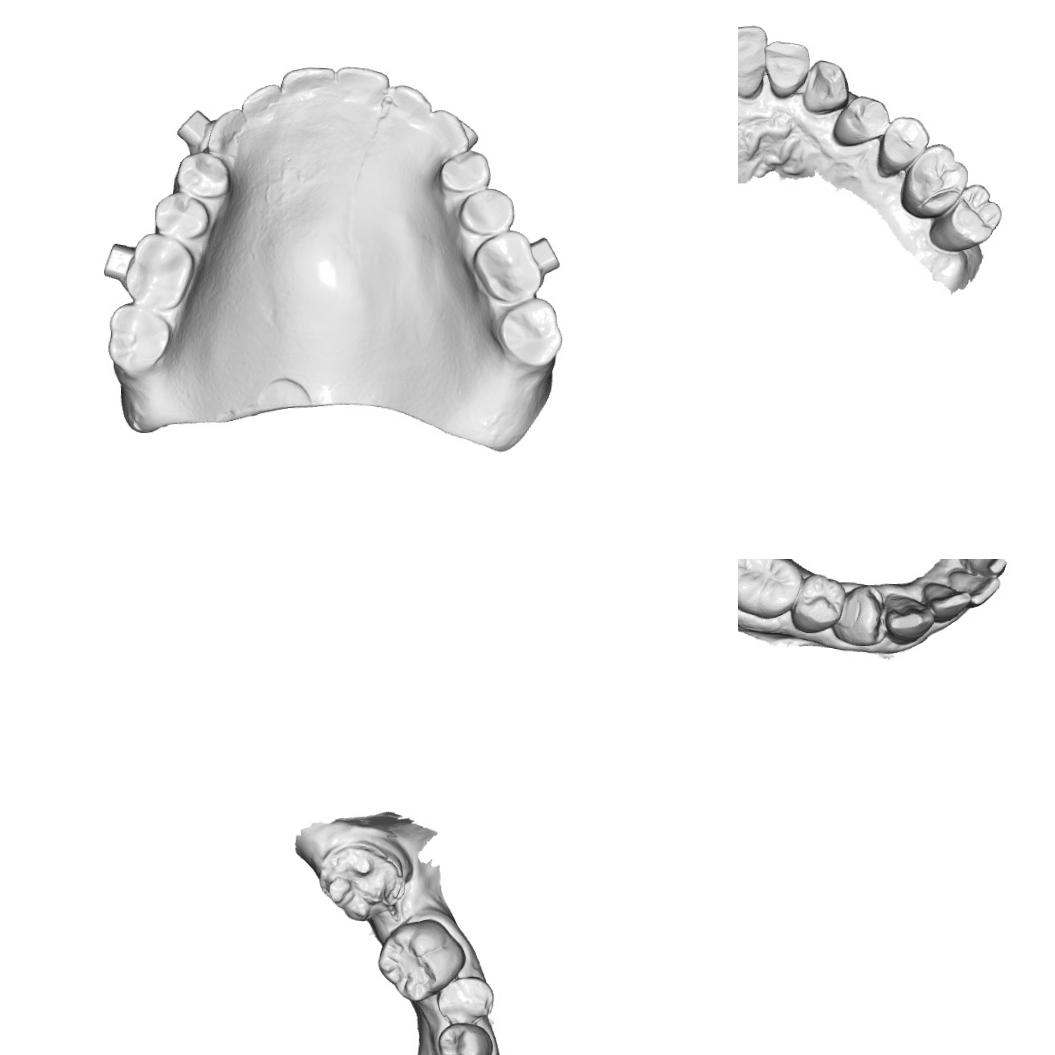canine: (882, 590, 936, 647), (800, 59, 850, 116), (204, 106, 248, 160), (427, 107, 471, 157)
incisor: (761, 40, 812, 100), (279, 64, 337, 116), (333, 64, 390, 113), (738, 22, 769, 100), (922, 581, 972, 624), (945, 569, 1003, 606), (386, 83, 434, 122), (240, 82, 282, 124), (956, 559, 1006, 577)
molar: (375, 916, 467, 1006), (316, 838, 408, 924), (120, 230, 196, 308), (469, 228, 544, 305), (927, 180, 1004, 254), (899, 141, 971, 220), (104, 300, 174, 378), (496, 295, 568, 368), (738, 559, 805, 621)
premolar: (831, 582, 889, 648), (790, 572, 847, 636), (875, 114, 931, 177), (435, 973, 496, 1029), (831, 94, 892, 149), (436, 146, 492, 202), (457, 185, 516, 238), (172, 150, 233, 200), (152, 190, 212, 240), (435, 1020, 494, 1055)
